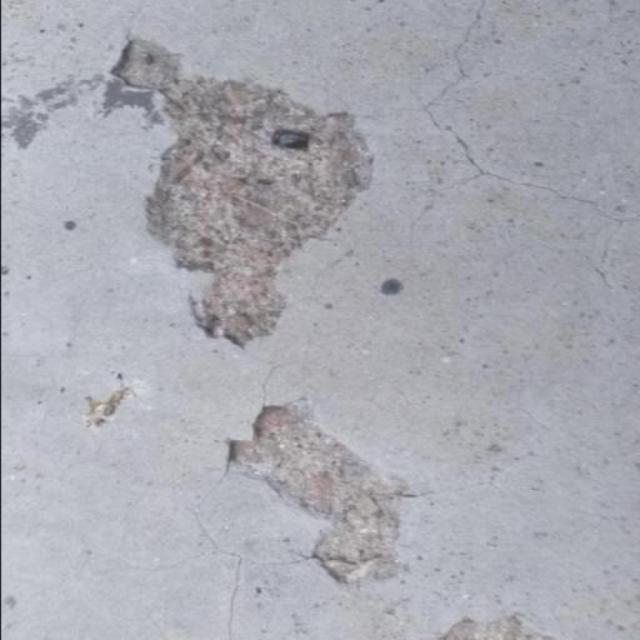D10: (110, 34, 377, 349), (226, 398, 401, 585)
